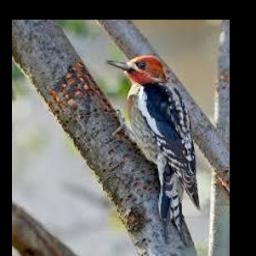Woodpecker: (105, 55, 200, 246)
